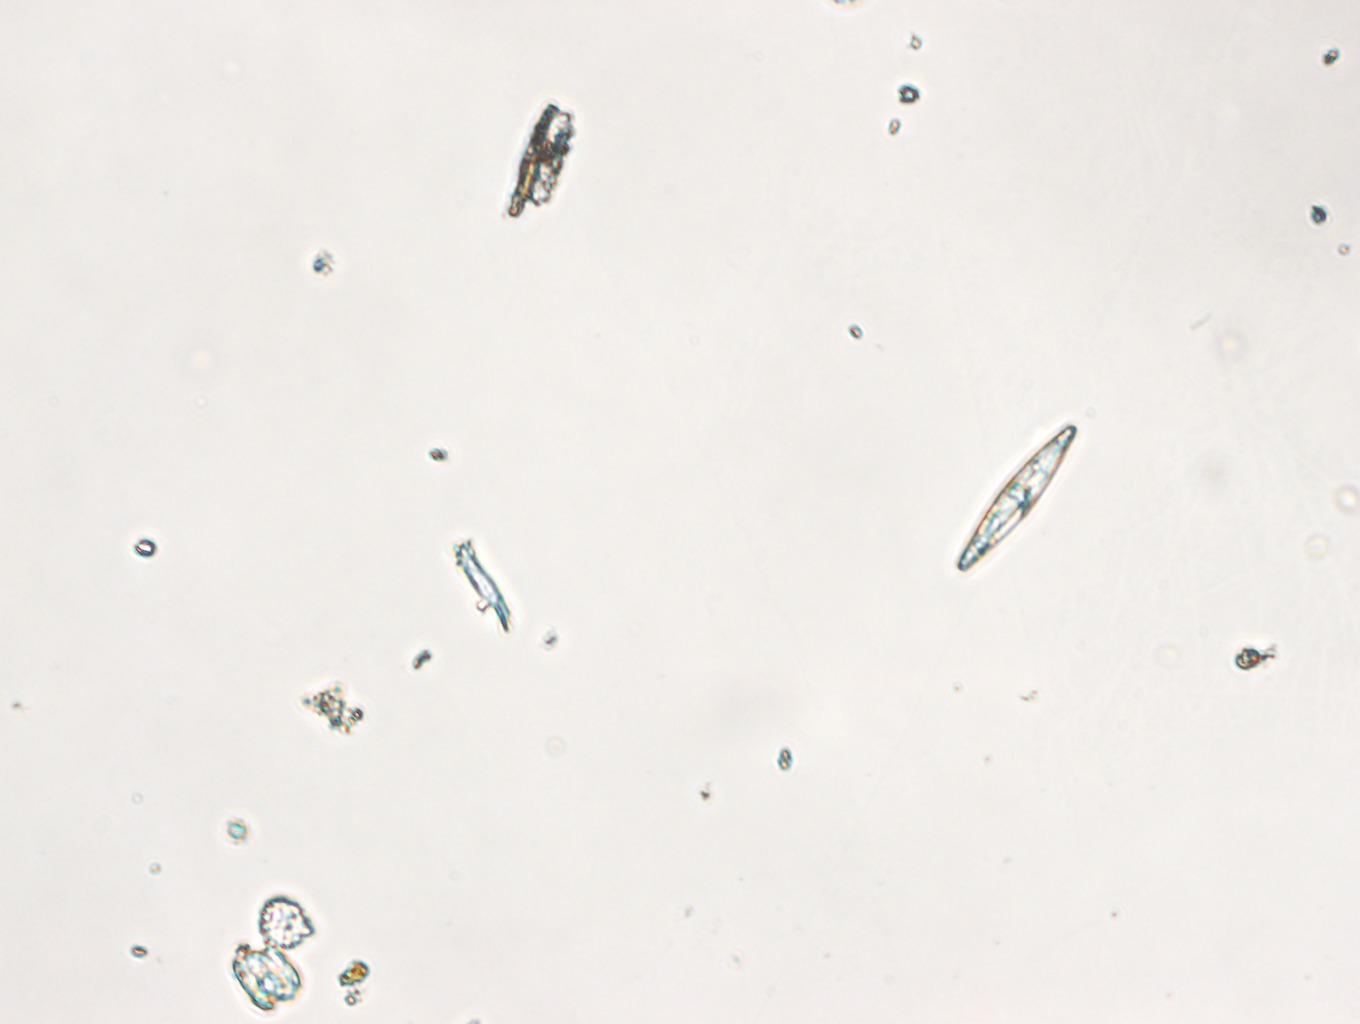navicula: (957, 411, 1080, 570)
